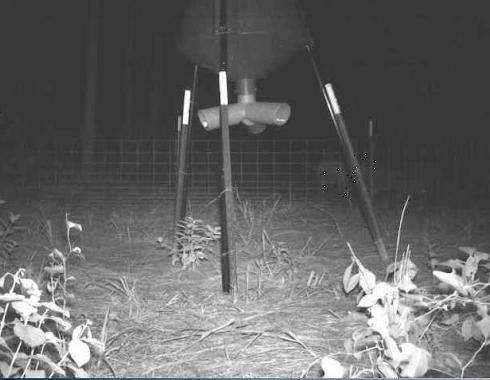Hog: (313, 152, 376, 200)
